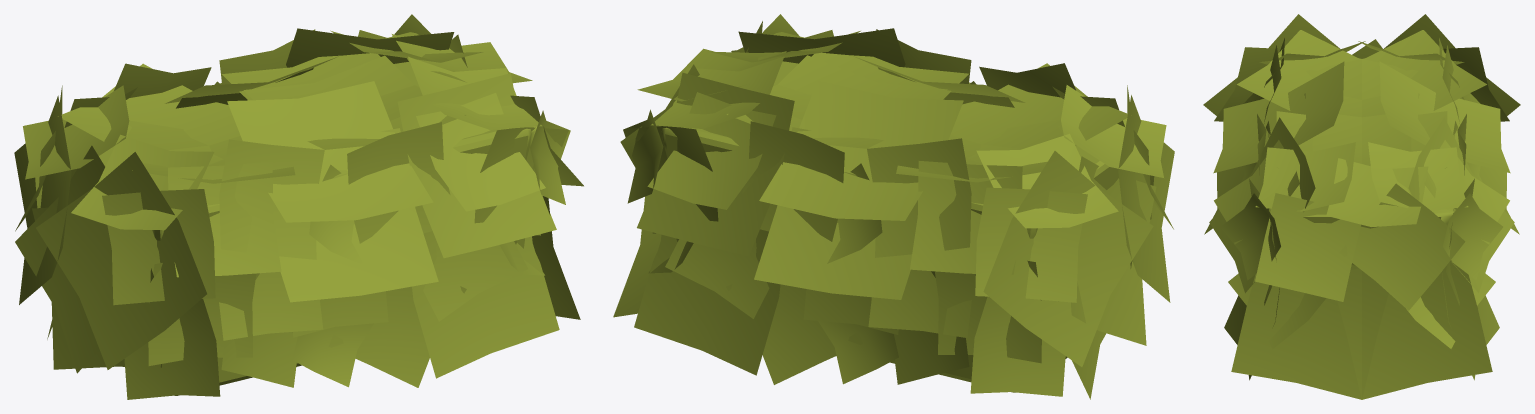
The model's file is Arbustillo.fbx.
3 renders of one model, left to right at view 1: azimuth 30°, elevation 25°; view 2: azimuth 150°, elevation 25°; view 3: azimuth 270°, elevation 25°, orthographic. The views are drawn at different scales.
Parts seen in each view (by area): view 1: pPlane43; view 2: pPlane43; view 3: pPlane43.
Part boxes in pixels (<box>): pPlane43: <box>14,14,583,399</box>; pPlane43: <box>613,14,1174,399</box>; pPlane43: <box>1203,14,1520,399</box>.
Bounding box in the file's own units: 5 × 2.76 × 3.49.
